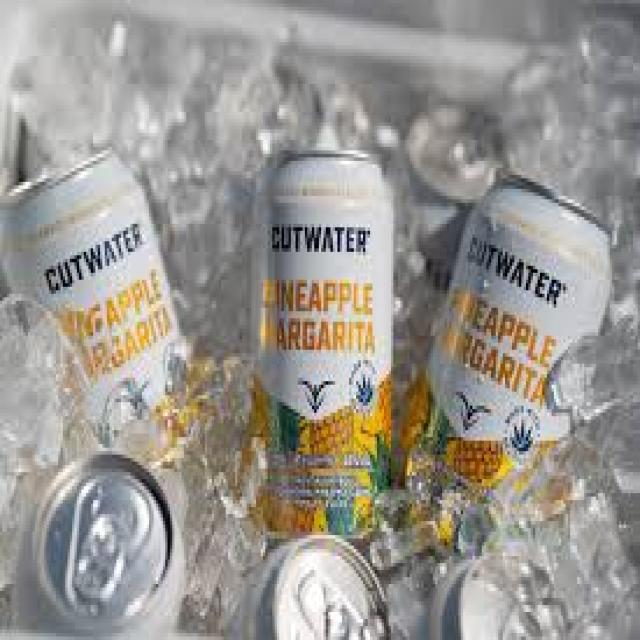Cans: (254, 147, 391, 545)
